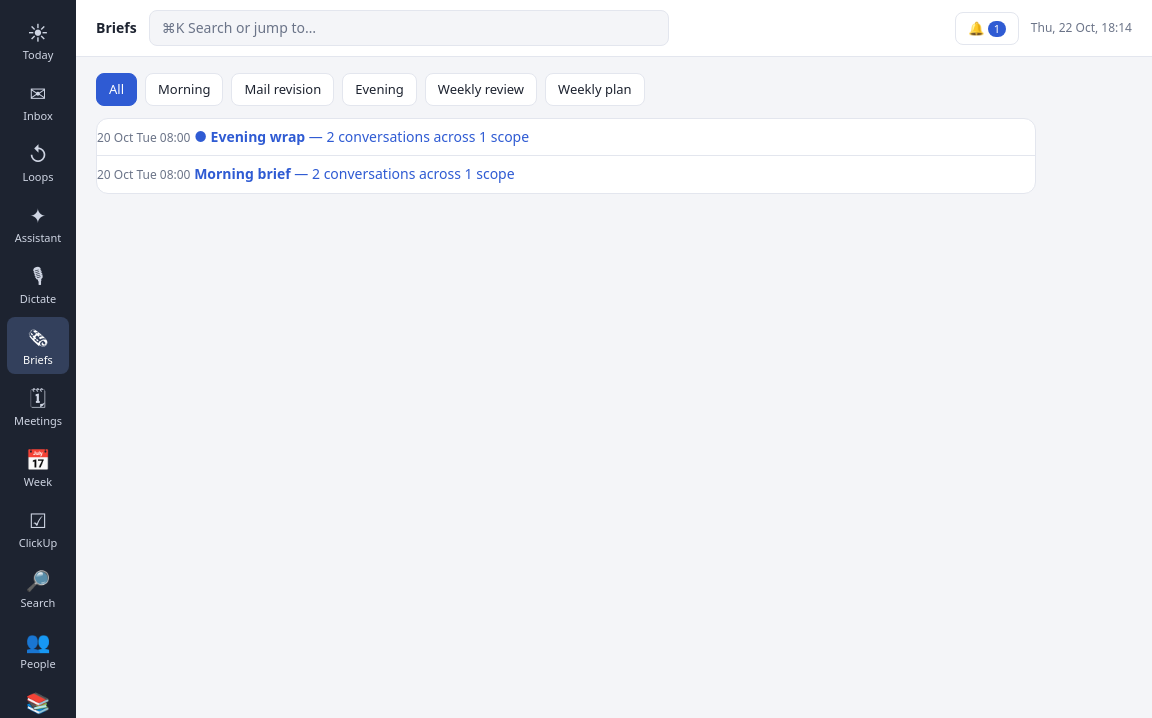
Test: briefs list shows every routine output and filters by type
Expected: the text "Evening wrap" is shown, top-left (194, 127), bottom-right (305, 146)
Expected: the text "Morning brief" is shown, top-left (194, 164), bottom-right (291, 183)
Click the button "Evening": (380, 90) top-left (342, 73), bottom-right (417, 106)
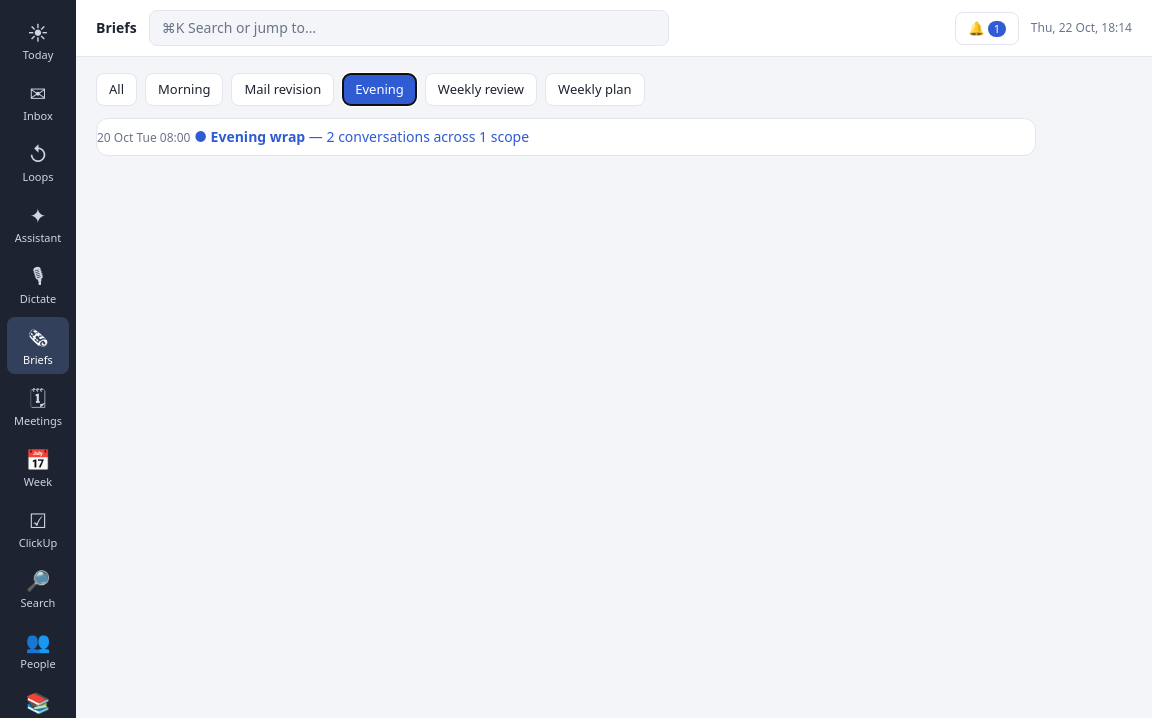
Expected: the link "Morning brief" is gone
